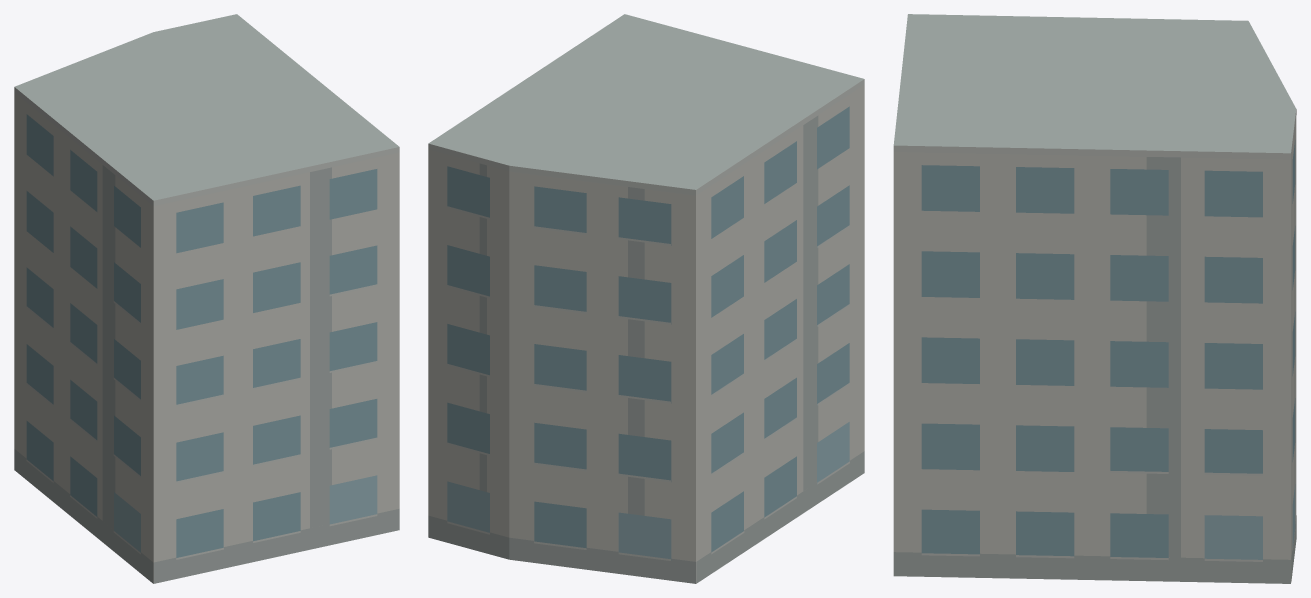
The model's file is survey-upis-32944650.glb.
The picture shows the model from 3 angles, left to right: view 1: azimuth 30°, elevation 25°; view 2: azimuth 150°, elevation 25°; view 3: azimuth 270°, elevation 25°; orthographic projection. The views are drawn at different scales.
Parts seen in each view (by area): view 1: survey-upis-32944650.tmp; view 2: survey-upis-32944650.tmp; view 3: survey-upis-32944650.tmp.
Part boxes in pixels (box(x1,y1,x2,y2)): survey-upis-32944650.tmp: box(14, 14, 399, 583); survey-upis-32944650.tmp: box(428, 14, 864, 583); survey-upis-32944650.tmp: box(893, 14, 1296, 583).
Size of the model in its own units: 11.45 by 16.5 by 14.
